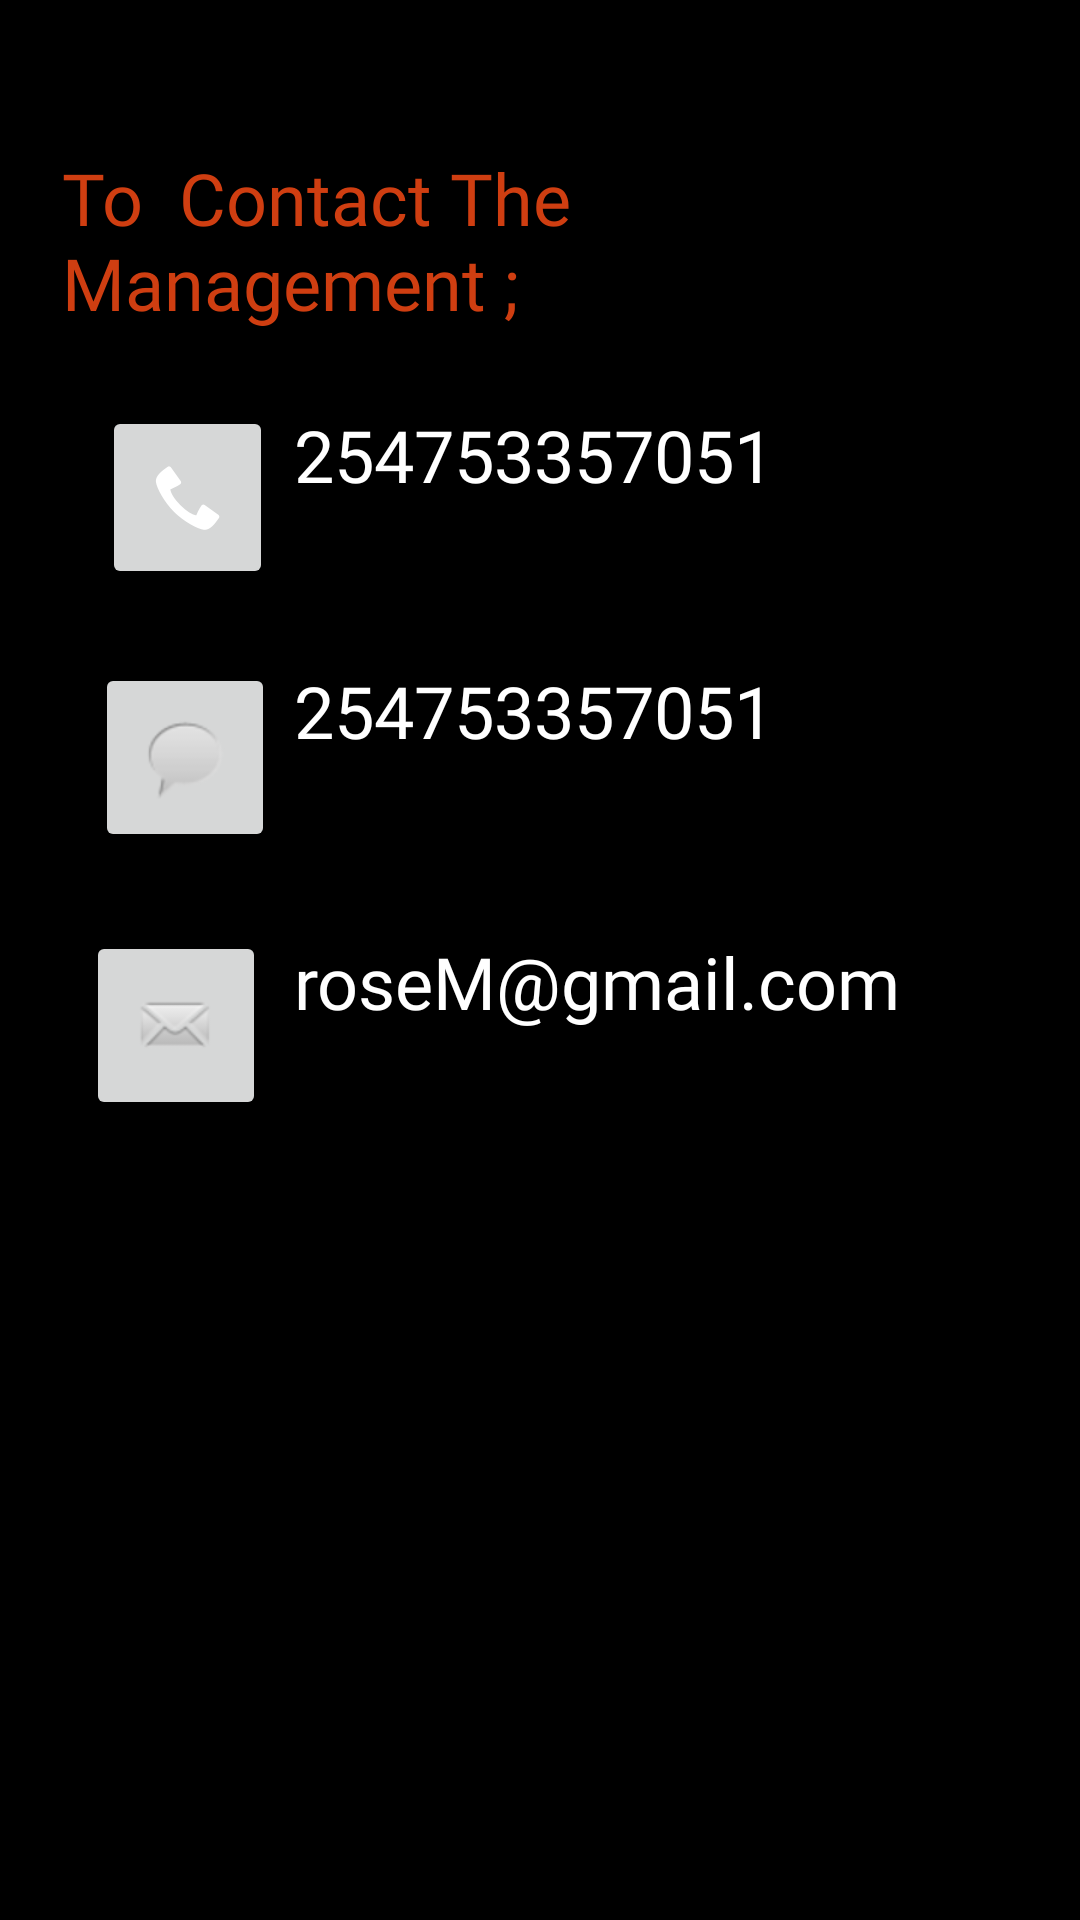

Named icons in this screenshot (1080px x 1920px) and their bounding boxes, (x1, y1, x2, y2):
callbtn: (114, 424, 261, 571)
email btn: (98, 949, 254, 1102)
sms btn: (107, 681, 263, 834)
